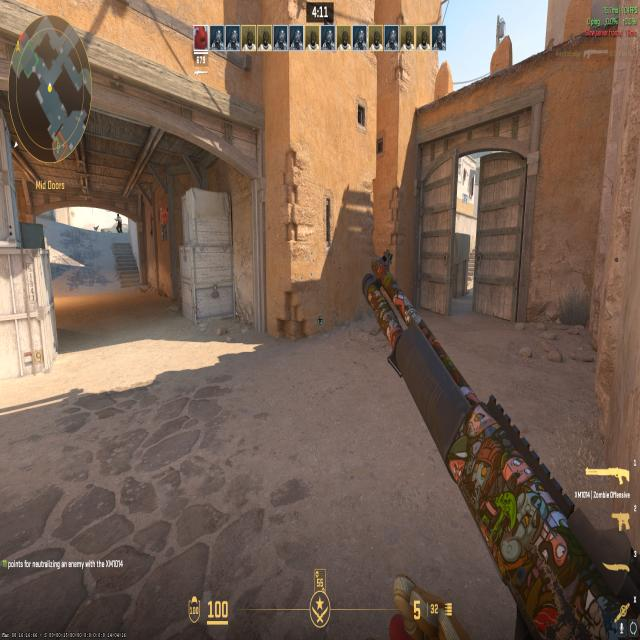t: (114, 212, 123, 234)
